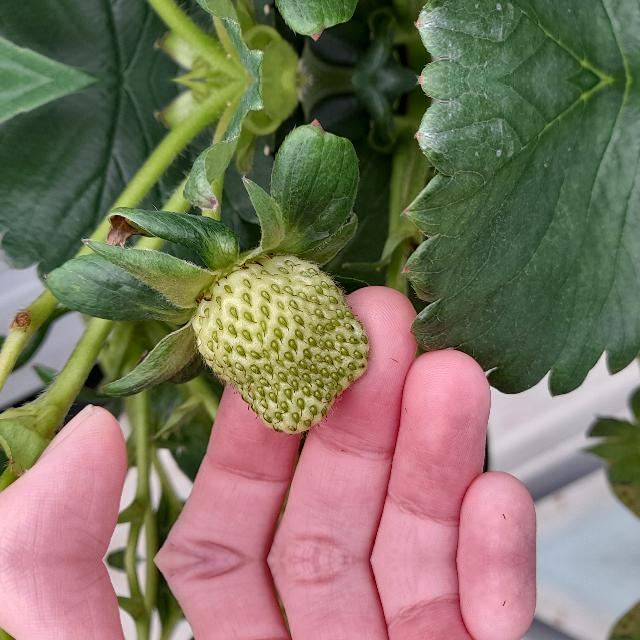Health_25: (191, 252, 369, 433)
